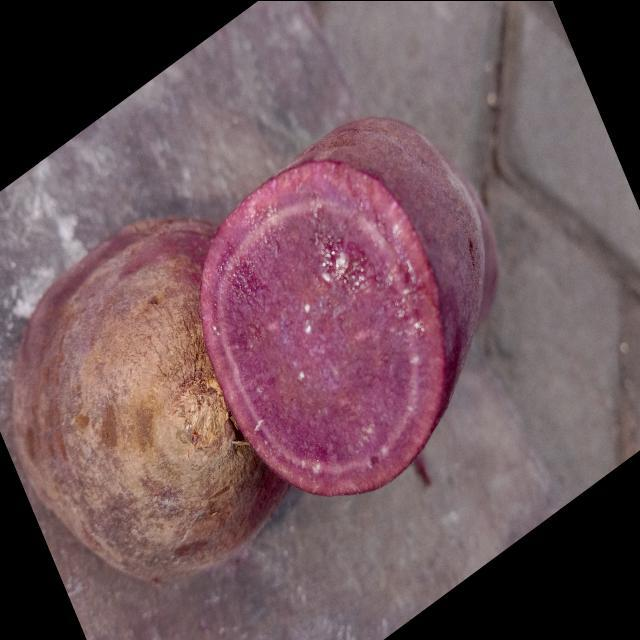Healthy Sweet Potato: (201, 160, 445, 495)
